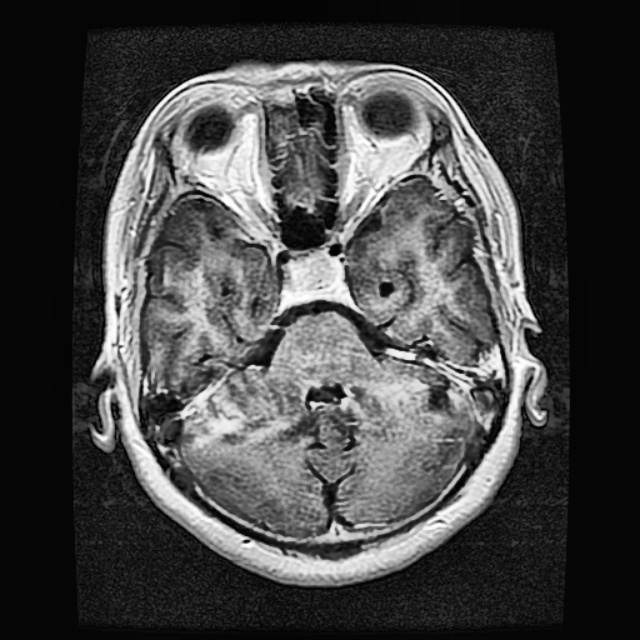Pituitary: (288, 248, 345, 300)
